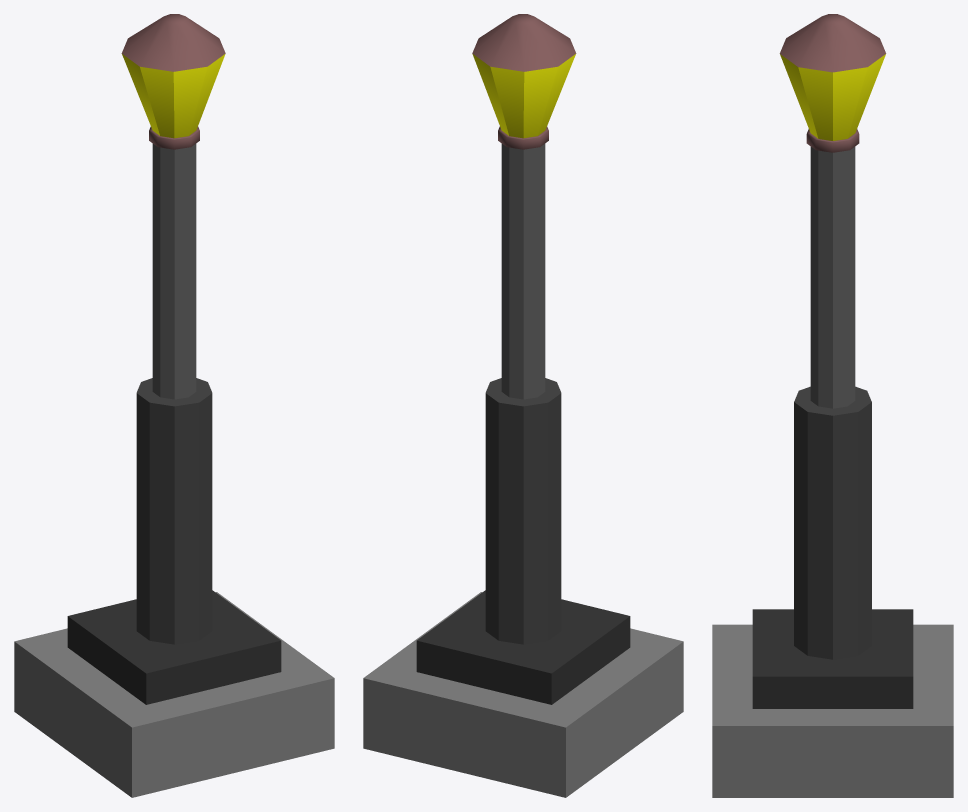
The model's file is lamp.fbx.
The picture shows the model from 3 angles, left to right: view 1: azimuth 30°, elevation 25°; view 2: azimuth 150°, elevation 25°; view 3: azimuth 270°, elevation 25°; orthographic projection. The views are drawn at different scales.
Parts seen in each view (by area): view 1: pCube1, pCylinder2 (×3), pCylinder1, pCube2; view 2: pCube1, pCylinder2 (×3), pCylinder1, pCube2; view 3: pCube1, pCylinder2 (×3), pCylinder1, pCube2.
Part boxes in pixels (<box>): pCube1: <box>14,592,334,797</box>; pCylinder2 (×3): <box>121,14,225,399</box>; pCylinder1: <box>136,378,212,644</box>; pCube2: <box>67,590,281,704</box>; pCube1: <box>363,592,683,797</box>; pCylinder2 (×3): <box>472,14,576,399</box>; pCylinder1: <box>485,378,561,644</box>; pCube2: <box>416,590,630,704</box>; pCube1: <box>712,624,953,797</box>; pCylinder2 (×3): <box>780,14,885,408</box>; pCylinder1: <box>794,386,871,659</box>; pCube2: <box>752,609,913,708</box>.
Size of the model in its own units: 1.07 by 3.6 by 1.08.
